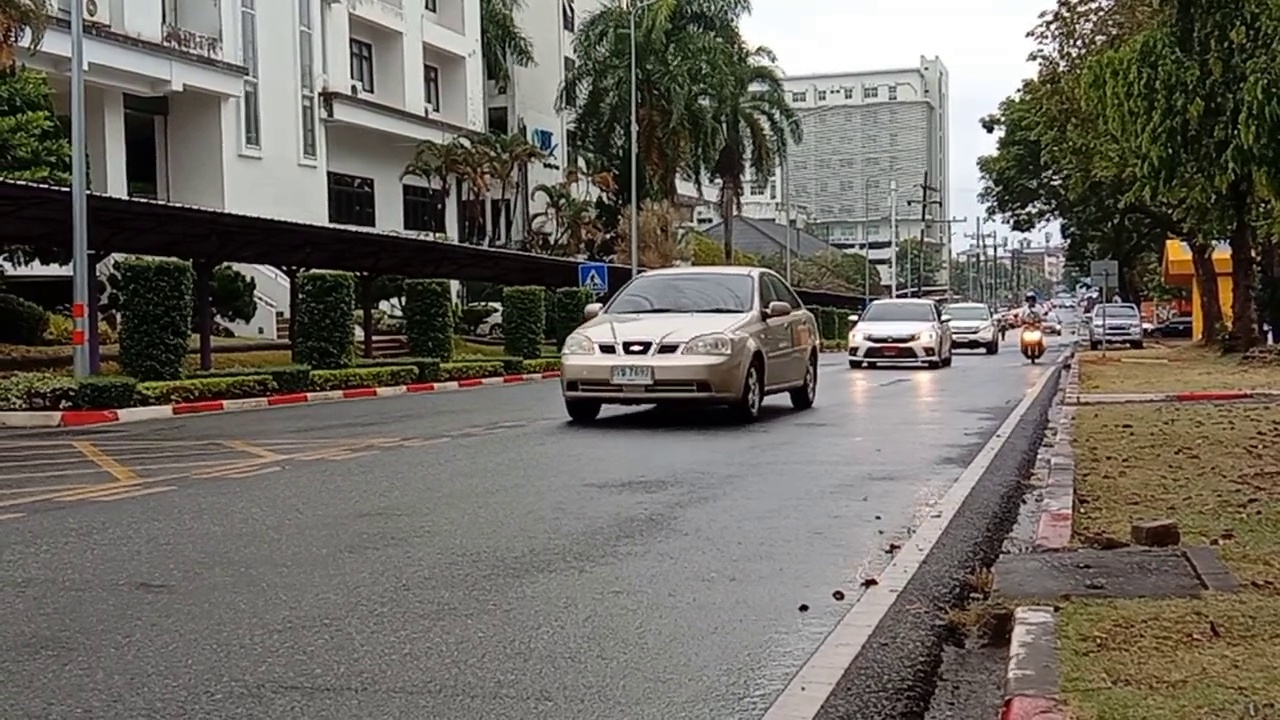License Plate: (609, 364, 657, 384)
